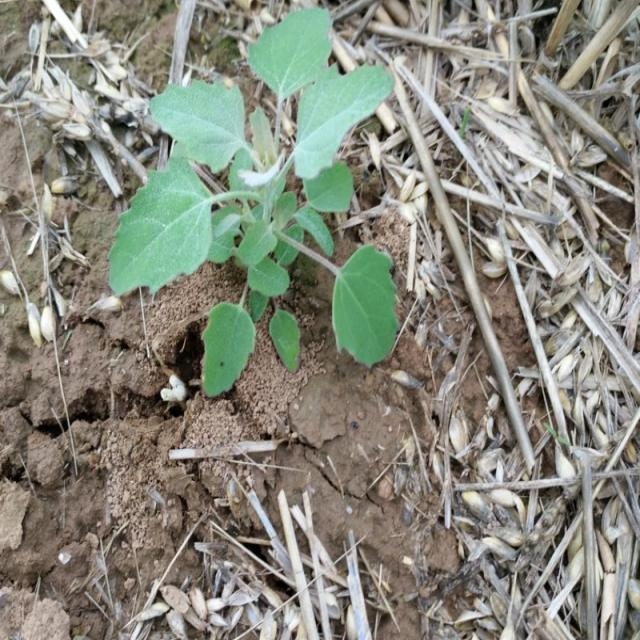goosefoots: (102, 34, 405, 404)
